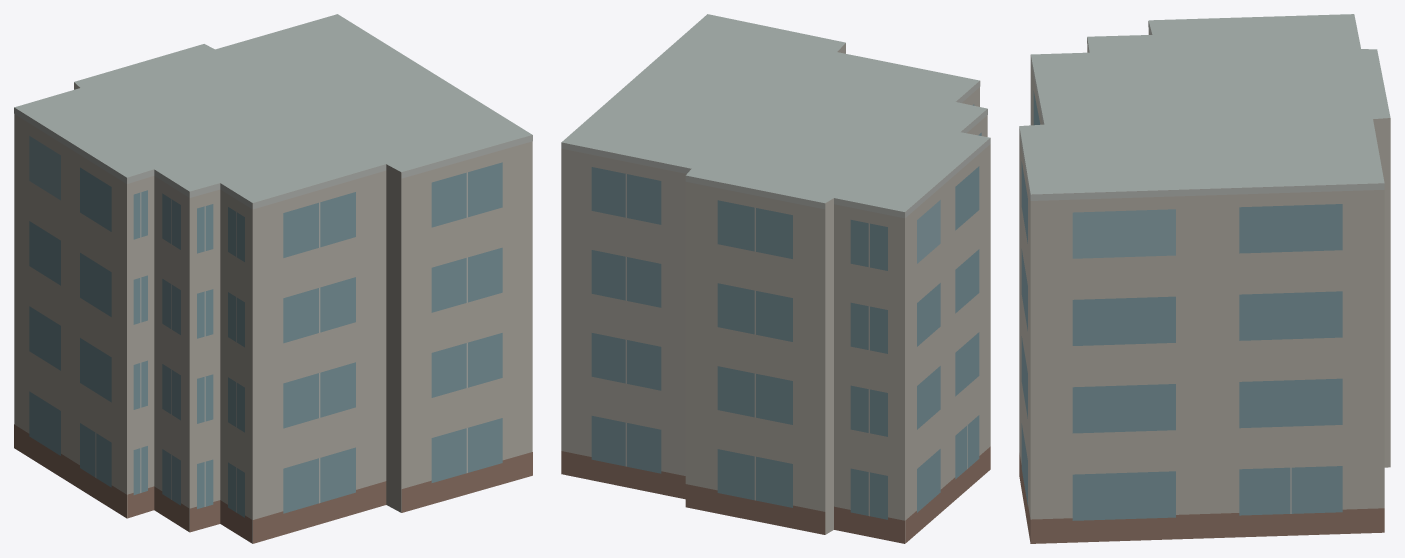
The model's file is survey-upis-32588504.glb.
The picture shows the model from 3 angles, left to right: view 1: azimuth 30°, elevation 25°; view 2: azimuth 150°, elevation 25°; view 3: azimuth 270°, elevation 25°; orthographic projection. The views are drawn at different scales.
Parts seen in each view (by area): view 1: survey-upis-32588504.tmp; view 2: survey-upis-32588504.tmp; view 3: survey-upis-32588504.tmp.
Boxes of the visible parts, x1,y1,x2,y2 form: survey-upis-32588504.tmp: [14, 14, 532, 543]; survey-upis-32588504.tmp: [561, 14, 990, 543]; survey-upis-32588504.tmp: [1019, 14, 1390, 543].
Bounding box in the file's own units: 14.41 × 13 × 12.53.
